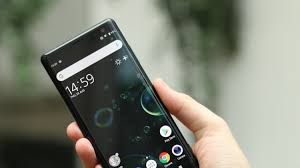sony: (35, 16, 203, 168)
